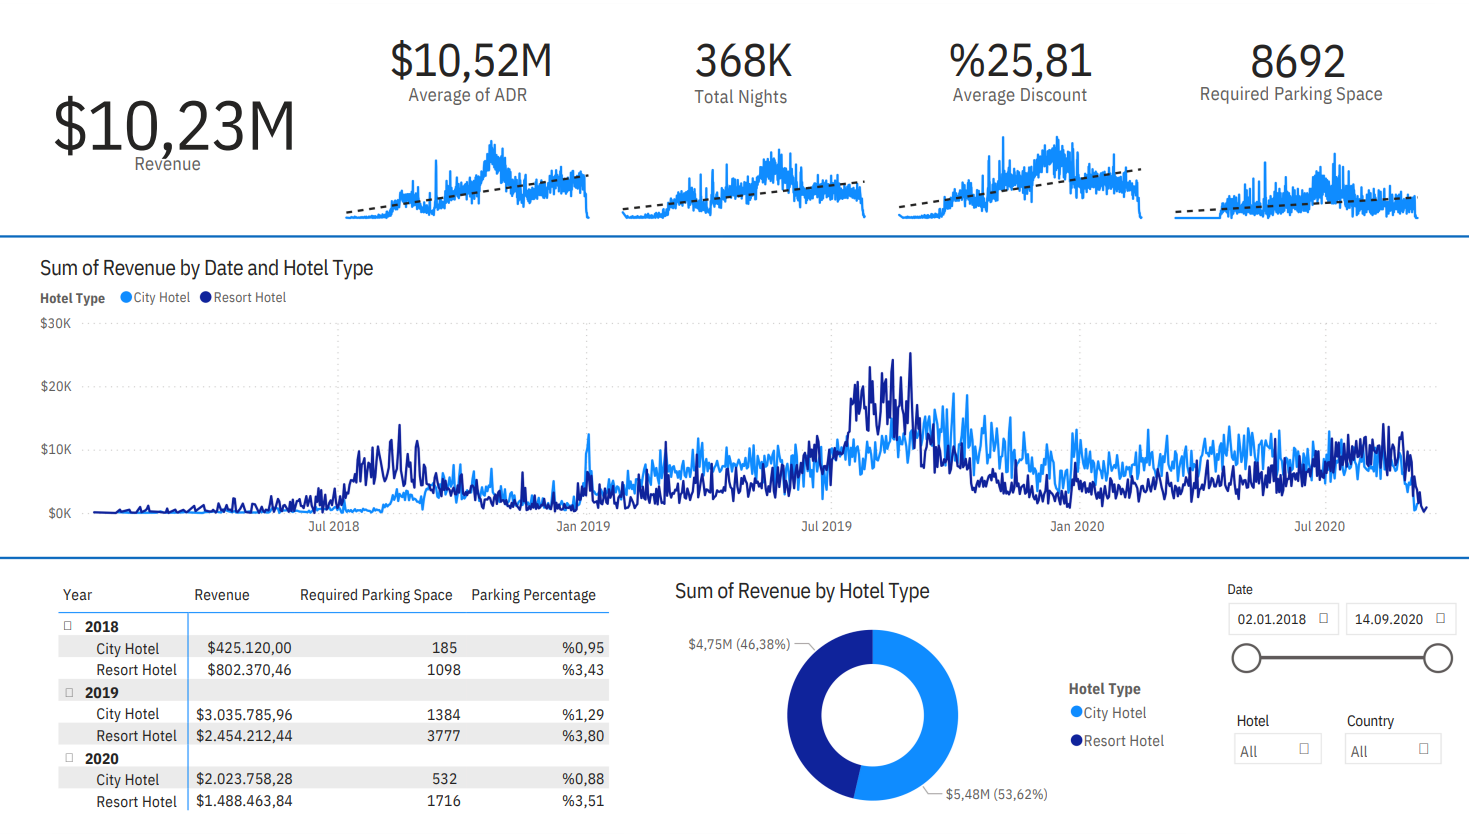

The dashboard page shown, as its layout file describes it:
{"tool":"powerbi","page":{"name":"1. sayfa","canvas":[1280,720],"ordinal":0},"visuals":[{"type":"shape","box":[0,191.7,1280,20.6],"z":0},{"type":"shape","box":[0,471.1,1280,19.5],"z":1000},{"type":"card","fields":{"Values":["Sum(Sorgu1.Revenue)"]},"box":[16.2,35.7,261,123.5],"z":2000},{"type":"card","fields":{"Values":["Avg(Sorgu1.adr)"]},"box":[288,0,240,96],"z":3000},{"type":"card","fields":{"Values":["Sorgu1.Total Nights"]},"box":[528,0,240,96],"z":4000},{"type":"card","fields":{"Values":["Avg(Sorgu1.Discount)"]},"box":[768,0,240,96],"z":5000},{"type":"lineChart","fields":{"Y":["Sum(Sorgu1.Revenue)"],"Category":["Sorgu1.reservation_status_date"],"Series":["Sorgu1.hotel"]},"box":[32,216,1240,256],"z":6000},{"type":"slicer","fields":{"Values":["Sorgu1.country"]},"box":[1160,608,104,64],"z":7000},{"type":"slicer","fields":{"Values":["Sorgu1.hotel"]},"box":[1064,608,96,64],"z":8000},{"type":"lineChart","fields":{"Y":["Sum(Sorgu1.adr)"],"Category":["Sorgu1.reservation_status_date"]},"box":[288,96,240,96],"z":9000},{"type":"lineChart","fields":{"Y":["Sorgu1.Total Nights"],"Category":["Sorgu1.reservation_status_date"]},"box":[528,96,240,96],"z":10000},{"type":"lineChart","fields":{"Y":["Sum(Sorgu1.Discount)"],"Category":["Sorgu1.reservation_status_date"]},"box":[768,96,240,96],"z":11000},{"type":"donutChart","fields":{"Category":["Sorgu1.hotel"],"Y":["Sum(Sorgu1.Revenue)"]},"box":[584,496,448,224],"z":12000},{"type":"pivotTable","fields":{"Rows":["Sorgu1.reservation_status_date.Variation.Tarih Hiyerarşisi.Yıl","Sorgu1.hotel"],"Values":["Sum(Sorgu1.Revenue)","Sum(Sorgu1.required_car_parking_spaces)","Sorgu1.Parking Percentage"]},"box":[48,496,496,224],"z":13000},{"type":"card","fields":{"Values":["Sum(Sorgu1.required_car_parking_spaces)"]},"box":[1008,0,240,96],"z":15000},{"type":"lineChart","fields":{"Category":["Sorgu1.reservation_status_date"],"Y":["Sum(Sorgu1.required_car_parking_spaces)"]},"box":[1008,96,240,96],"z":16000},{"type":"slicer","fields":{"Values":["Sorgu1.reservation_status_date"]},"box":[1056,496,216,96],"z":17000}]}

Visuals, with their boxes in screenshot pixels (x1, y1, x2, y2), scaled from the page's 1280x720 canvas onto the 1469x838 screenshot:
shape: x1=0, y1=223, x2=1468, y2=247
shape: x1=0, y1=548, x2=1468, y2=571
card - Sum(Sorgu1.Revenue): x1=19, y1=42, x2=318, y2=185
card - Avg(Sorgu1.adr): x1=331, y1=0, x2=606, y2=112
card - Sorgu1.Total Nights: x1=606, y1=0, x2=881, y2=112
card - Avg(Sorgu1.Discount): x1=881, y1=0, x2=1157, y2=112
lineChart - Sum(Sorgu1.Revenue) x Sorgu1.reservation_status_date: x1=37, y1=251, x2=1460, y2=549
slicer - Sorgu1.country: x1=1331, y1=708, x2=1451, y2=782
slicer - Sorgu1.hotel: x1=1221, y1=708, x2=1331, y2=782
lineChart - Sum(Sorgu1.adr) x Sorgu1.reservation_status_date: x1=331, y1=112, x2=606, y2=223
lineChart - Sorgu1.Total Nights x Sorgu1.reservation_status_date: x1=606, y1=112, x2=881, y2=223
lineChart - Sum(Sorgu1.Discount) x Sorgu1.reservation_status_date: x1=881, y1=112, x2=1157, y2=223
donutChart - Sorgu1.hotel x Sum(Sorgu1.Revenue): x1=670, y1=577, x2=1184, y2=837
pivotTable - Sorgu1.reservation_status_date.Variation.Tarih Hiyerarşisi.Yıl x Sorgu1.hotel: x1=55, y1=577, x2=624, y2=837
card - Sum(Sorgu1.required_car_parking_spaces): x1=1157, y1=0, x2=1432, y2=112
lineChart - Sorgu1.reservation_status_date x Sum(Sorgu1.required_car_parking_spaces): x1=1157, y1=112, x2=1432, y2=223
slicer - Sorgu1.reservation_status_date: x1=1212, y1=577, x2=1460, y2=689
